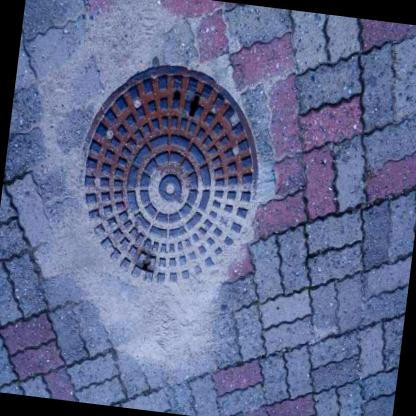manholes: (53, 44, 294, 320)
